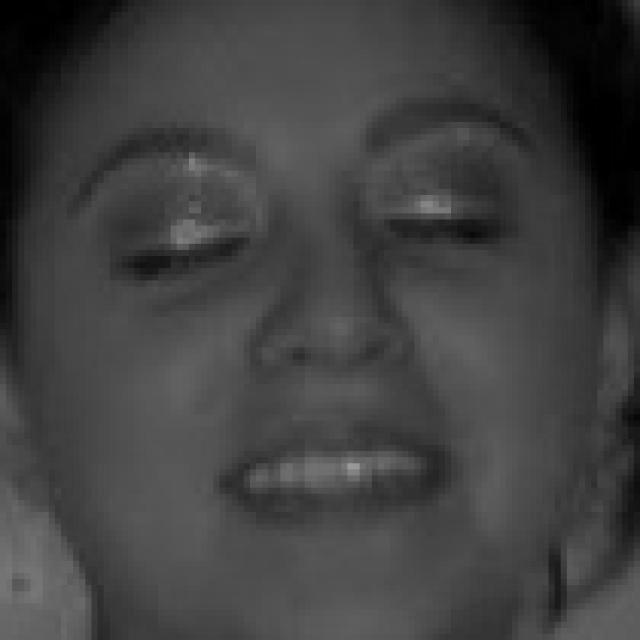real: (18, 0, 604, 640), (96, 187, 528, 288)
